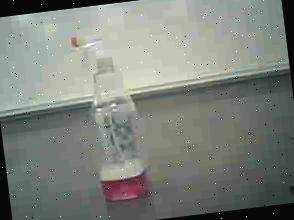hazard: (68, 26, 157, 207)
